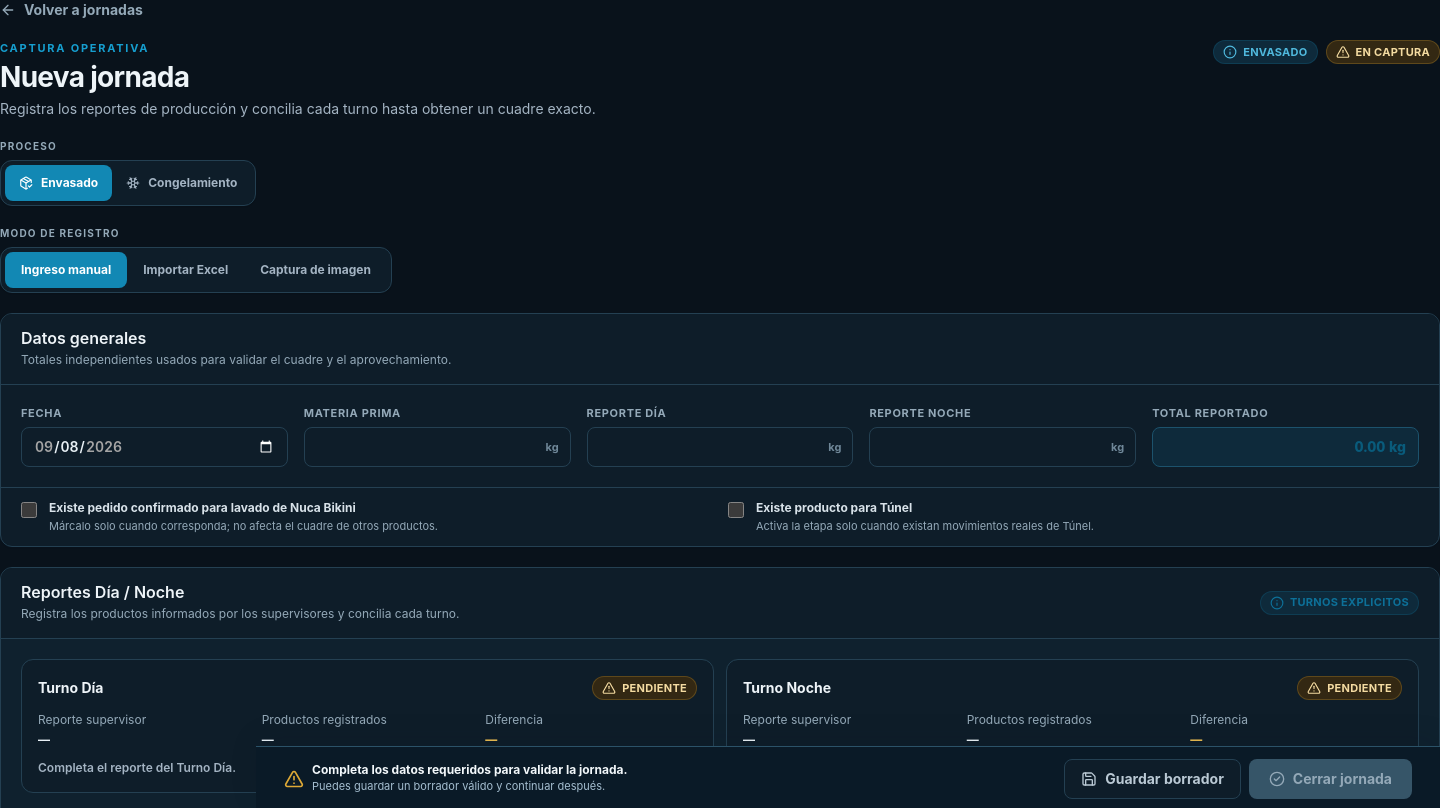
Scenario: ProductionEntryPage product selector › defaults Sunday to balance processing and enables the discharge exception explicitly
The width and height of the screenshot is (1440, 808).
Type "2026-09-13" into the date field labelled "Fecha".
click(154, 447); type("2026-09-13")  # box [21,427,288,467]
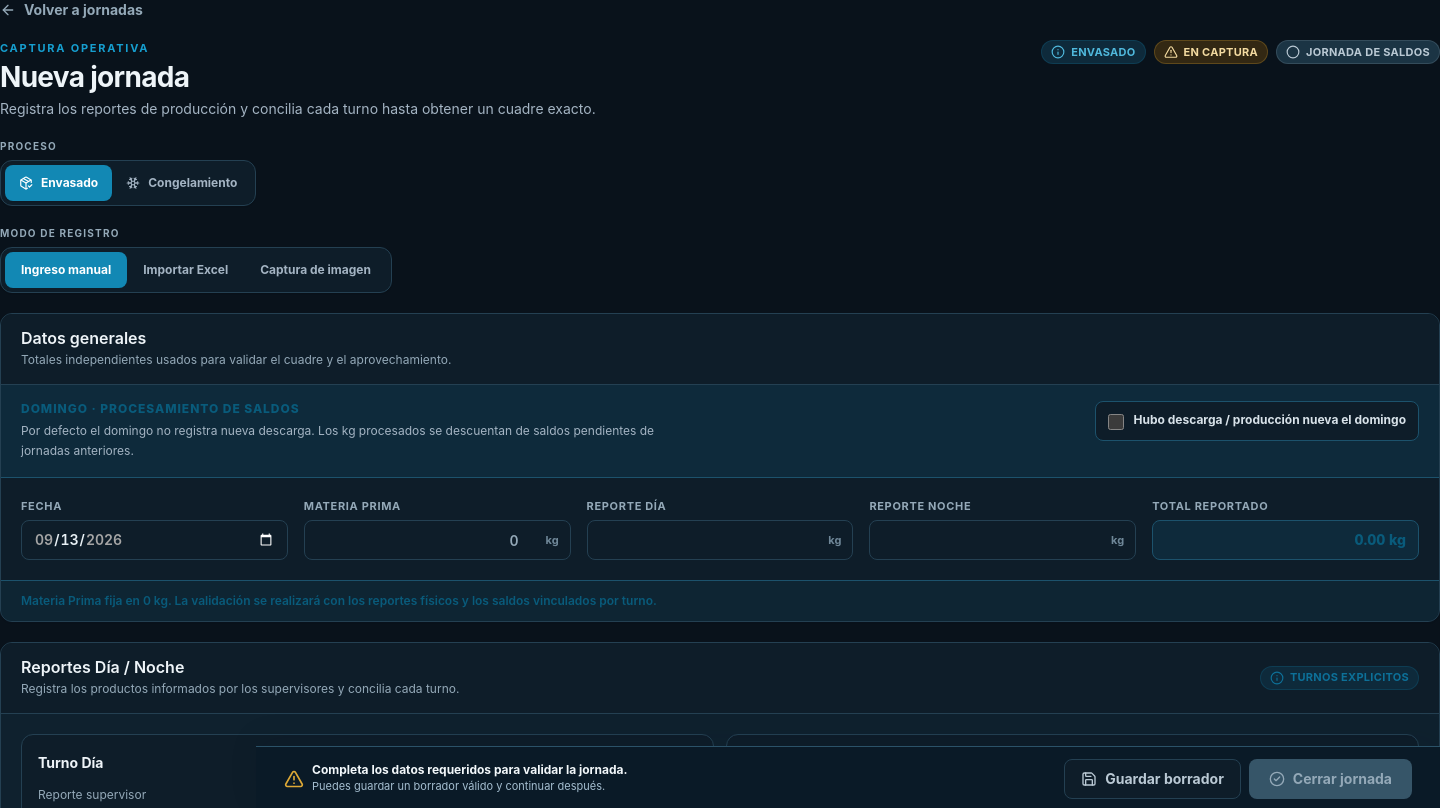
Check: the text "DOMINGO · PROCESAMIENTO DE SALDOS" is shown, box [21,400,300,416]
Check: the number field labelled "Materia prima kg" is disabled, box [304,520,571,560]
Check: the number field labelled "Materia prima kg" holds "0", box [304,520,571,560]
Click the checkbox labelled "Hubo descarga / producción nueva el domingo".
click(1116, 422)  # box [1108,414,1124,430]
(page scrolled)
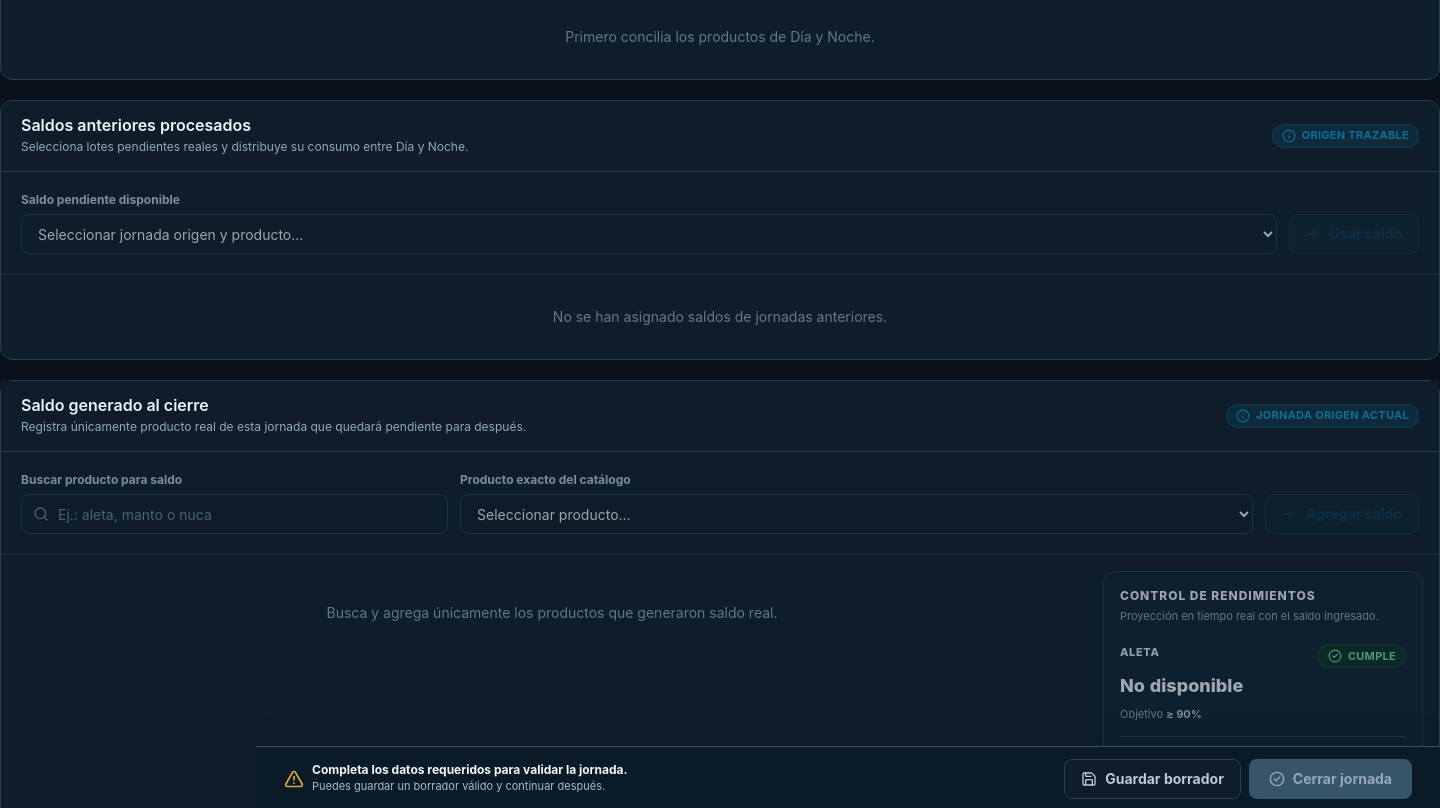
Check: the heading "Saldo generado al cierre" is shown, box [21,395,209,415]
